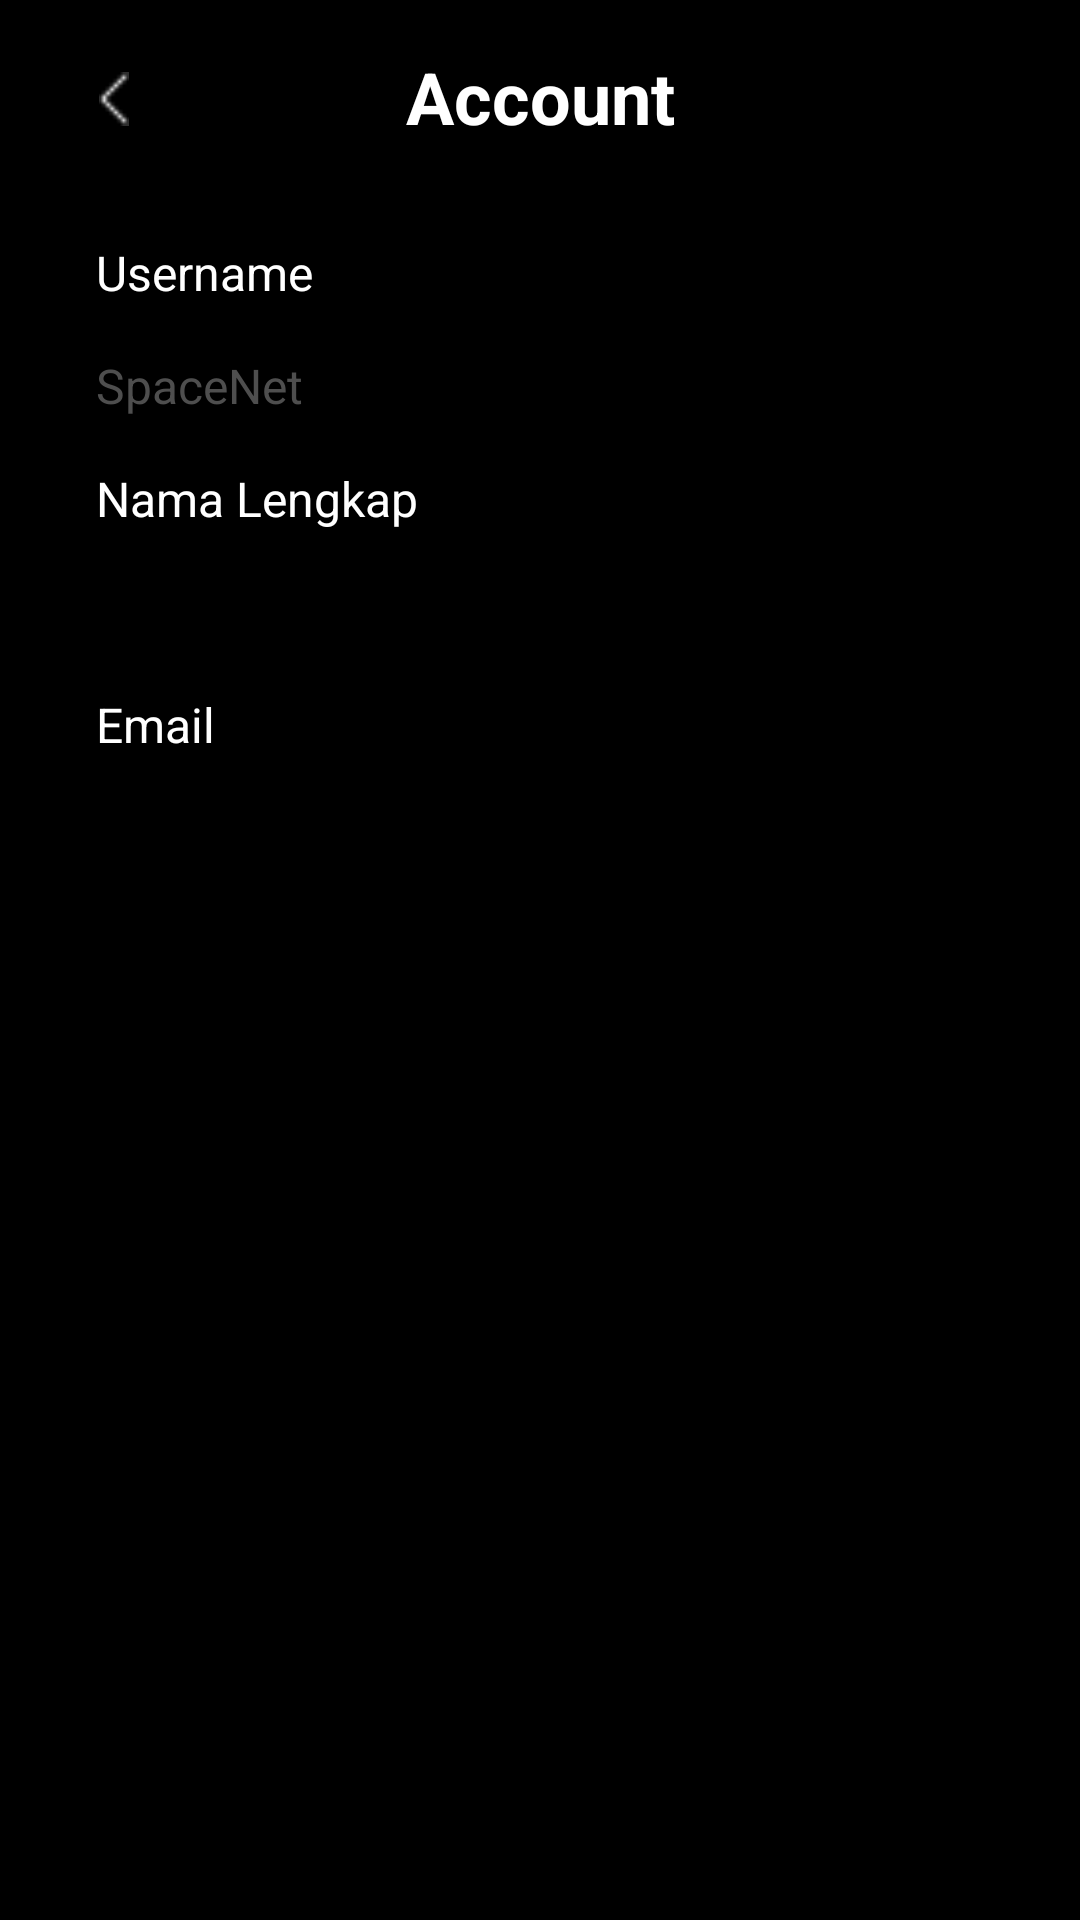

Screen size 1080×1920. Icon name, then its center in pixels as (x,y):
back: (114,99)
